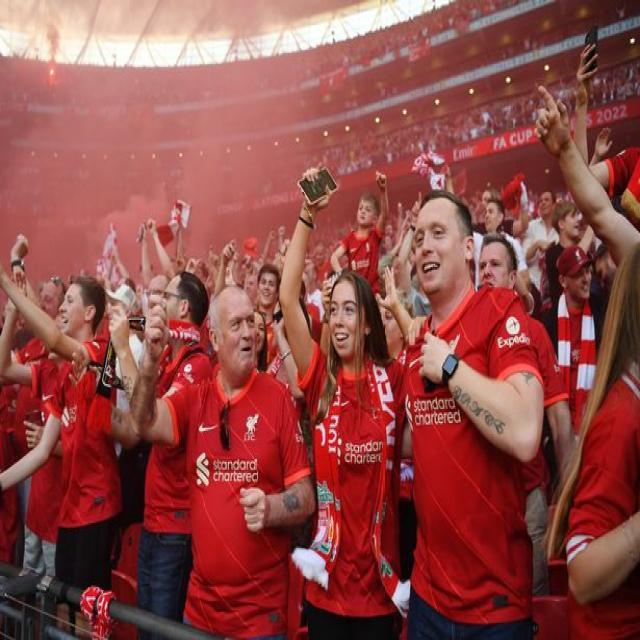Nike: (198, 423, 218, 432)
Standard Chartered: (196, 451, 259, 486), (406, 395, 462, 430), (345, 442, 382, 464)
